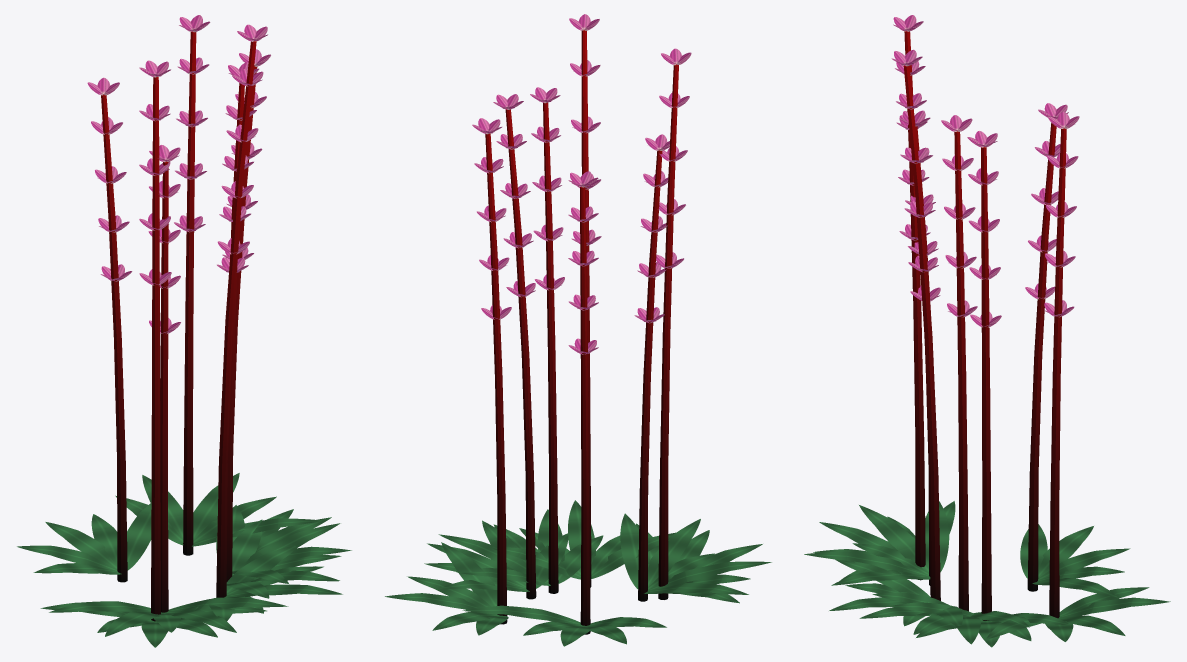
Rendered from lupine_v02.fbx.
The picture shows the model from 3 angles, left to right: view 1: azimuth 30°, elevation 25°; view 2: azimuth 150°, elevation 25°; view 3: azimuth 270°, elevation 25°; orthographic projection. The views are drawn at different scales.
Visible parts, largest first — view 1: lupine_v02; view 2: lupine_v02; view 3: lupine_v02.
Part boxes in pixels (<box>): lupine_v02: <box>17,15,351,647</box>; lupine_v02: <box>385,14,771,646</box>; lupine_v02: <box>804,15,1170,647</box>.
Size of the model in its own units: 44.01 by 45.95 by 77.29.
